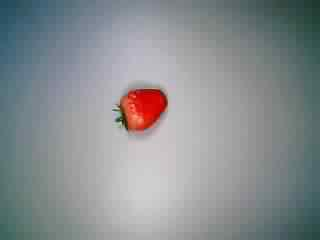strawberry: (102, 80, 170, 144)
